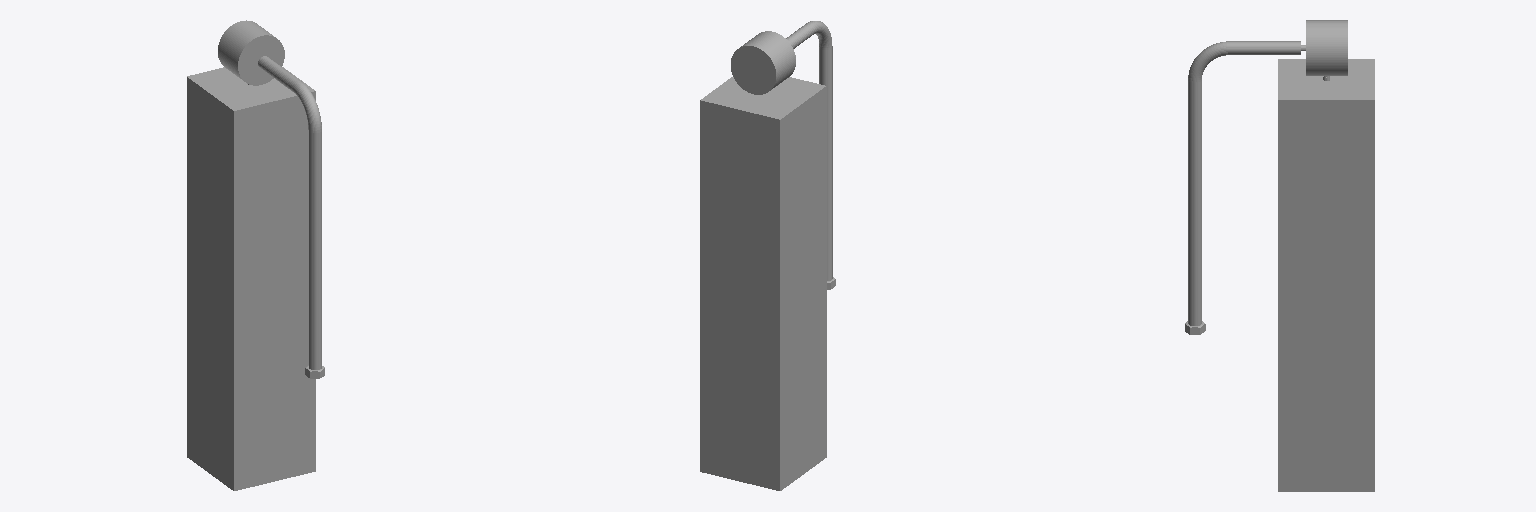
The robot description file, URDF, robot "Pendel":
<?xml version="1.0" ?>
<!-- =================================================================================== -->
<!-- |    This document was autogenerated by xacro from Pendel.xacro                   | -->
<!-- |    EDITING THIS FILE BY HAND IS NOT RECOMMENDED                                 | -->
<!-- =================================================================================== -->
<robot name="Pendel">
  <material name="silver">
    <color rgba="0.700 0.700 0.700 1.000"/>
  </material>
  <transmission name="pendelGelenk_tran">
    <type>transmission_interface/SimpleTransmission</type>
    <joint name="pendelGelenk">
      <hardwareInterface>hardware_interface/EffortJointInterface</hardwareInterface>
    </joint>
    <actuator name="pendelGelenk_actr">
      <hardwareInterface>hardware_interface/EffortJointInterface</hardwareInterface>
      <mechanicalReduction>1</mechanicalReduction>
    </actuator>
  </transmission>
  <transmission name="rotaryGelenk_tran">
    <type>transmission_interface/SimpleTransmission</type>
    <joint name="rotaryGelenk">
      <hardwareInterface>hardware_interface/EffortJointInterface</hardwareInterface>
    </joint>
    <actuator name="rotaryGelenk_actr">
      <hardwareInterface>hardware_interface/EffortJointInterface</hardwareInterface>
      <mechanicalReduction>1</mechanicalReduction>
    </actuator>
  </transmission>
  <gazebo>
    <plugin filename="libgazebo_ros_control.so" name="control"/>
  </gazebo>
  <gazebo reference="base_link">
    <material>Gazebo/Silver</material>
    <mu1>0.2</mu1>
    <mu2>0.2</mu2>
    <selfCollide>true</selfCollide>
    <gravity>true</gravity>
  </gazebo>
  <gazebo reference="Pendel_1">
    <material>Gazebo/Silver</material>
    <mu1>0.2</mu1>
    <mu2>0.2</mu2>
    <selfCollide>true</selfCollide>
  </gazebo>
  <gazebo reference="Encoder_1">
    <material>Gazebo/Silver</material>
    <mu1>0.2</mu1>
    <mu2>0.2</mu2>
    <selfCollide>true</selfCollide>
  </gazebo>
  <link name="base_link">
    <inertial>
      <origin rpy="0 0 0" xyz="3.592221998570457e-17 0.0 0.15501107810631898"/>
      <mass value="11.924986949735343"/>
      <inertia ixx="0.100382" ixy="0.0" ixz="-0.0" iyy="0.100382" iyz="0.0" izz="0.009738"/>
    </inertial>
    <visual>
      <origin rpy="0 0 0" xyz="0 0 0"/>
      <geometry>
        <mesh filename="../meshes/base_link.stl" scale="0.001 0.001 0.001"/>
      </geometry>
      <material name="silver"/>
    </visual>
    <collision>
      <origin rpy="0 0 0" xyz="0 0 0"/>
      <geometry>
        <mesh filename="../meshes/base_link.stl" scale="0.001 0.001 0.001"/>
      </geometry>
    </collision>
  </link>
  <link name="Pendel_1">
    <inertial>
      <origin rpy="0 0 0" xyz="7.53053905616492e-07 -0.057182054209378205 -0.12050399497646608"/>
      <mass value="0.01740539597679812"/>
      <inertia ixx="0.000136" ixy="0.0" ixz="0.0" iyy="0.000131" iyz="-1.6e-05" izz="6e-06"/>
    </inertial>
    <visual>
      <origin rpy="0 0 0" xyz="-0.0 0.0295 -0.335002"/>
      <geometry>
        <mesh filename="../meshes/Pendel_1.stl" scale="0.001 0.001 0.001"/>
      </geometry>
      <material name="silver"/>
    </visual>
    <collision>
      <origin rpy="0 0 0" xyz="-0.0 0.0295 -0.335002"/>
      <geometry>
        <mesh filename="../meshes/Pendel_1.stl" scale="0.001 0.001 0.001"/>
      </geometry>
    </collision>
  </link>
  <link name="Encoder_1">
    <inertial>
      <origin rpy="0 0 0" xyz="4.2822283207196315e-08 -0.00013534763535349713 0.01901143495877572"/>
      <mass value="0.1023589961334875"/>
      <inertia ixx="1.8e-05" ixy="-0.0" ixz="0.0" iyy="2e-05" iyz="-0.0" izz="1.8e-05"/>
    </inertial>
    <visual>
      <origin rpy="0 0 0" xyz="-0.0 -0.0 -0.316"/>
      <geometry>
        <mesh filename="../meshes/Encoder_1.stl" scale="0.001 0.001 0.001"/>
      </geometry>
      <material name="silver"/>
    </visual>
    <collision>
      <origin rpy="0 0 0" xyz="-0.0 -0.0 -0.316"/>
      <geometry>
        <mesh filename="../meshes/Encoder_1.stl" scale="0.001 0.001 0.001"/>
      </geometry>
    </collision>
  </link>
  <joint name="pendelGelenk" type="continuous">
    <origin rpy="0 0 0" xyz="0.0 -0.0295 0.019002"/>
    <parent link="Encoder_1"/>
    <child link="Pendel_1"/>
    <axis xyz="0.0 -1.0 0.0"/>
  </joint>
  <joint name="rotaryGelenk" type="revolute">
    <origin rpy="0 0 0" xyz="0.0 0.0 0.316"/>
    <parent link="base_link"/>
    <child link="Encoder_1"/>
    <axis xyz="0.0 0.0 1.0"/>
    <limit effort="100" lower="-6.283185" upper="0.0" velocity="100"/>
  </joint>
</robot>

--- What the picture shows (computed from the rendered views, not written in the file) ---
3 views of the same robot in one strip: view 1: azimuth 30°, elevation 25°; view 2: azimuth 150°, elevation 25°; view 3: azimuth 270°, elevation 25° (orthographic).
Robot: Pendel — 3 links, 2 joints (1 revolute, 1 continuous); root link base_link; default pose: all joints at 0.
Links seen in each view (by area): view 1: base_link, Pendel_1, Encoder_1; view 2: base_link, Encoder_1, Pendel_1; view 3: base_link, Pendel_1, Encoder_1.
Link boxes in pixels (x1,y1,x2,y2): base_link: (187, 67, 315, 490); Pendel_1: (258, 56, 324, 378); Encoder_1: (218, 20, 284, 85); base_link: (700, 77, 826, 490); Encoder_1: (731, 31, 795, 94); Pendel_1: (786, 21, 835, 289); base_link: (1278, 59, 1374, 491); Pendel_1: (1185, 41, 1300, 334); Encoder_1: (1301, 20, 1347, 75).
Bounding box of the posed robot: 0.07 × 0.137 × 0.355 m (x, y, z).
Meshes: 3 distinct files referenced, 3 mesh visuals loaded (3 binary STL).
